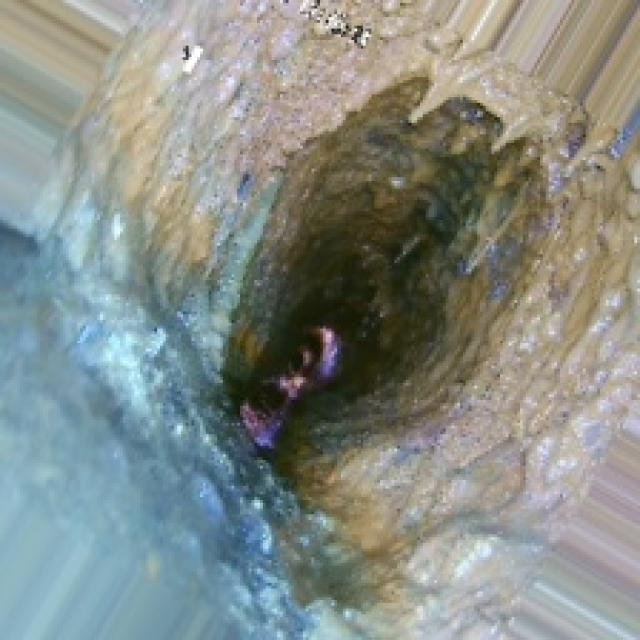encrustation: (246, 37, 620, 414)
